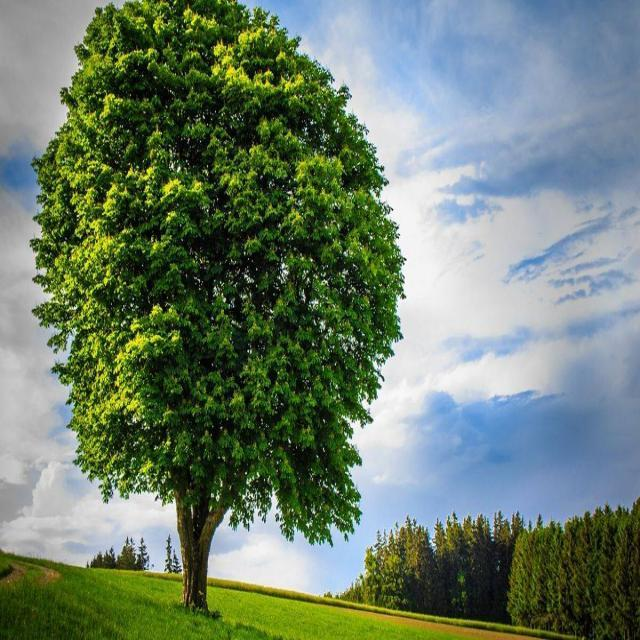Tree: (50, 1, 405, 630), (587, 507, 619, 639), (608, 508, 640, 638), (571, 520, 606, 638), (598, 504, 629, 637), (562, 517, 594, 636), (551, 525, 581, 638), (519, 521, 549, 632), (544, 518, 572, 634), (529, 522, 557, 636), (488, 515, 515, 626), (505, 512, 530, 628), (472, 507, 495, 627), (465, 512, 489, 624), (402, 518, 428, 608), (437, 525, 460, 618), (451, 514, 470, 622), (368, 541, 396, 611), (422, 525, 444, 614), (386, 529, 409, 608), (343, 572, 370, 601), (167, 539, 181, 581), (92, 551, 125, 568), (139, 533, 153, 571), (124, 535, 137, 569)
